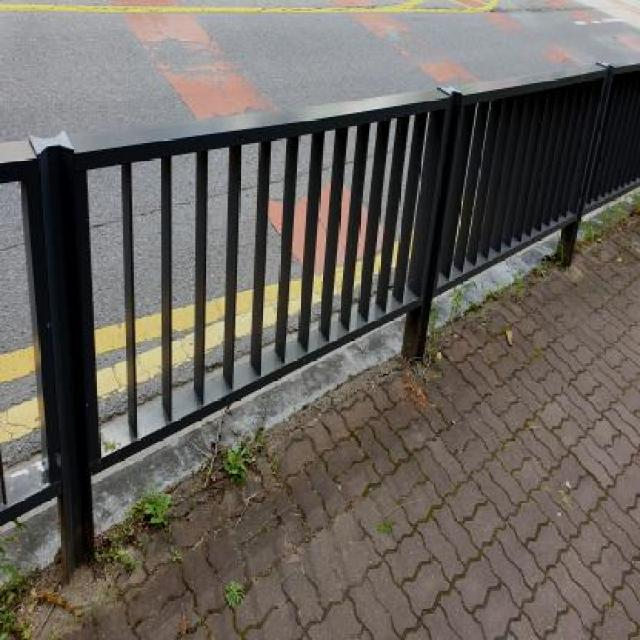fence: (6, 94, 459, 449), (395, 24, 640, 316)
